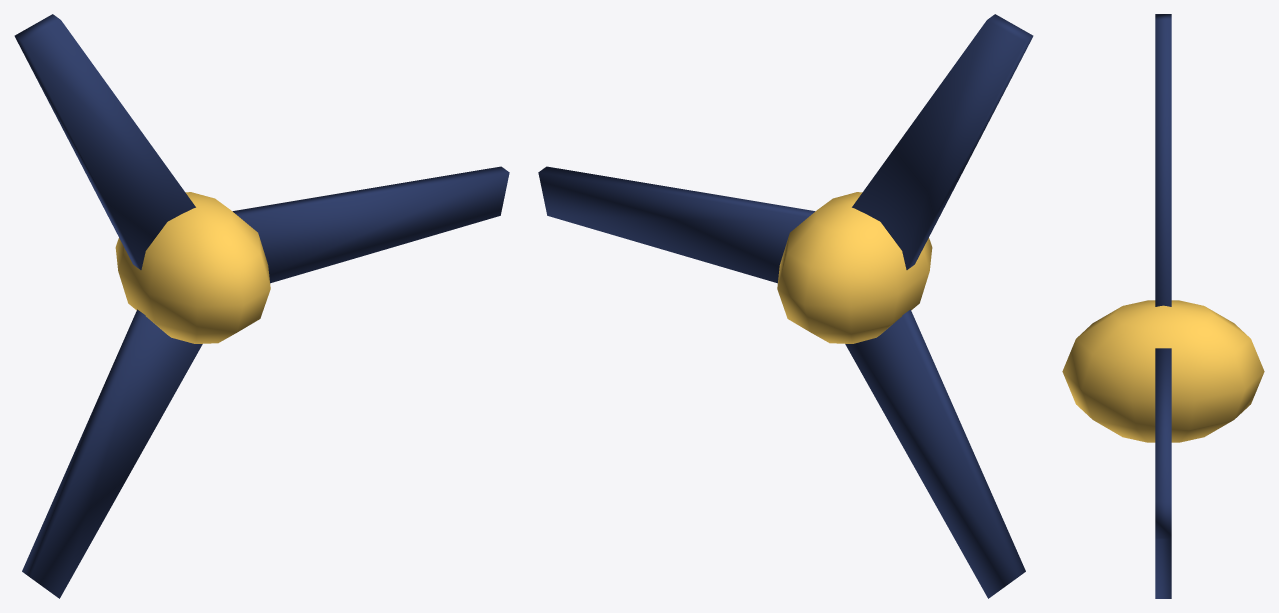
Rendered from sky_propeller.glb.
The picture shows the model from 3 angles, left to right: view 1: azimuth 30°, elevation 25°; view 2: azimuth 150°, elevation 25°; view 3: azimuth 270°, elevation 25°; orthographic projection.
Parts seen in each view (by area): view 1: Propeller; view 2: Propeller; view 3: Propeller.
Part boxes in pixels (x1,y1,x2,y2): Propeller: (14,14,509,598); Propeller: (538,14,1033,598); Propeller: (1062,14,1264,598).
Bounding box in the file's own units: 2.73 × 3.1 × 0.98.
